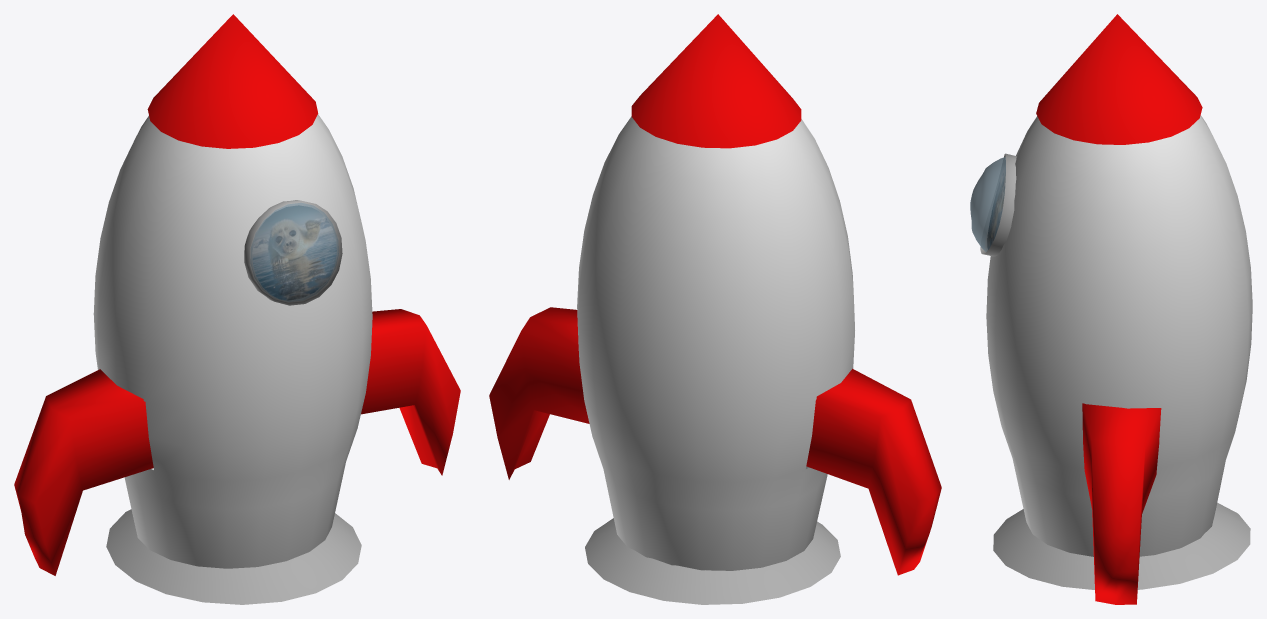
The model's file is RocketShipsV2.fbx.
3 renders of one model, left to right at view 1: azimuth 30°, elevation 25°; view 2: azimuth 150°, elevation 25°; view 3: azimuth 270°, elevation 25°, orthographic. The views are drawn at different scales.
Visible parts, largest first — view 1: polySurface1, polySurface6, pCone1, pCylinder1, polySurface3, pSphere2, pDisc1, pCylinder2; view 2: polySurface1, polySurface6, pCone1, polySurface3, pCylinder1; view 3: polySurface1, pCone1, polySurface3, pCylinder1, pSphere2, pCylinder2, pDisc1.
Part boxes in pixels (<box>): polySurface1: <box>93,114,372,568</box>; polySurface6: <box>14,369,153,575</box>; pCone1: <box>147,14,318,148</box>; pCylinder1: <box>106,509,361,604</box>; polySurface3: <box>361,309,460,475</box>; pSphere2: <box>250,203,338,301</box>; pDisc1: <box>252,205,336,300</box>; pCylinder2: <box>244,200,342,305</box>; polySurface1: <box>577,116,854,570</box>; polySurface6: <box>806,368,941,575</box>; pCone1: <box>631,14,801,148</box>; polySurface3: <box>489,307,589,479</box>; pCylinder1: <box>585,518,840,604</box>; polySurface1: <box>986,115,1252,556</box>; pCone1: <box>1036,14,1202,144</box>; polySurface3: <box>1082,403,1161,604</box>; pCylinder1: <box>993,503,1250,589</box>; pSphere2: <box>970,157,1005,251</box>; pCylinder2: <box>980,153,1016,256</box>; pDisc1: <box>987,166,1005,249</box>.
Size of the model in its own units: 0.8648 by 1.02 by 0.493.
